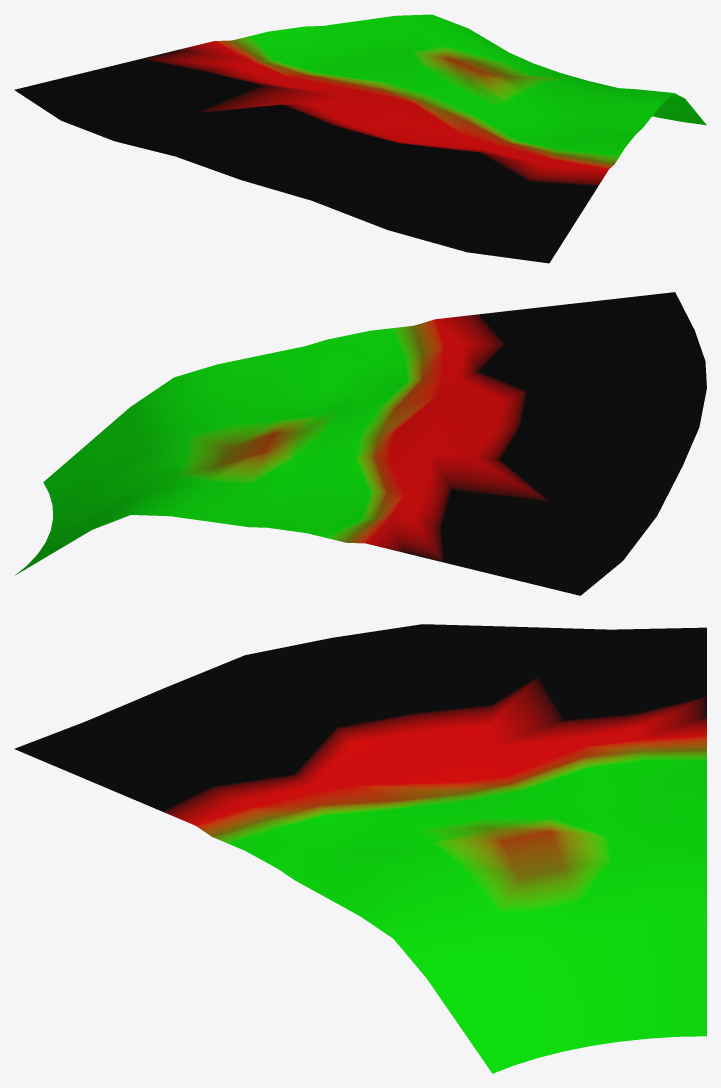
Rendered from Section_WayBend45AngleOut01_Coast_Terrain.fbx.
3 renders of one model, top to bottom at view 1: azimuth 30°, elevation 25°; view 2: azimuth 150°, elevation 25°; view 3: azimuth 270°, elevation 25°, orthographic. The views are drawn at different scales.
Parts seen in each view (by area): view 1: Section_WayBend45AngleOut01_Coast_Terrain; view 2: Section_WayBend45AngleOut01_Coast_Terrain; view 3: Section_WayBend45AngleOut01_Coast_Terrain.
Part boxes in pixels (x1=…): Section_WayBend45AngleOut01_Coast_Terrain: x1=14, y1=14, x2=706, y2=263; Section_WayBend45AngleOut01_Coast_Terrain: x1=15, y1=292, x2=706, y2=595; Section_WayBend45AngleOut01_Coast_Terrain: x1=14, y1=624, x2=706, y2=1073.
Size of the model in its own units: 8202 by 1702 by 7425.
